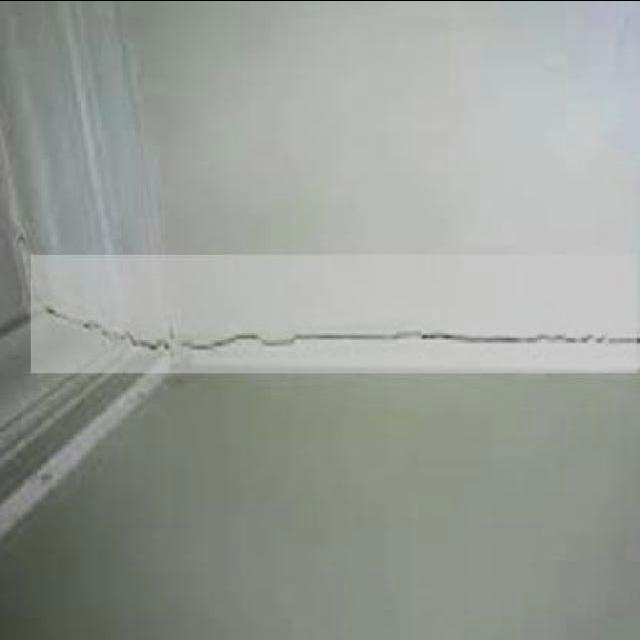SurfaceCrack: (10, 254, 640, 392)
